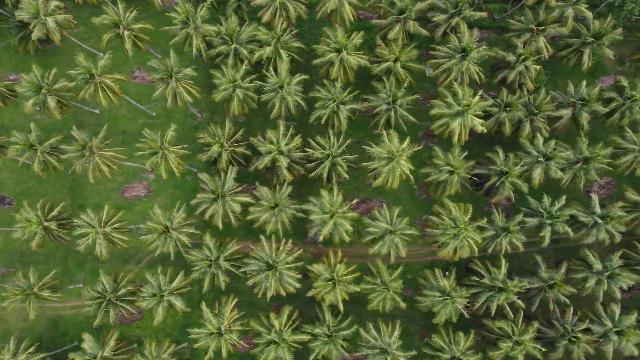trees: (544, 10, 624, 74), (424, 28, 495, 93), (241, 236, 310, 302), (466, 259, 536, 321), (187, 299, 258, 360), (183, 235, 252, 297), (61, 123, 132, 183), (423, 201, 492, 262), (562, 191, 637, 247), (425, 87, 491, 149), (572, 298, 640, 358), (191, 169, 255, 232), (80, 270, 147, 330), (137, 203, 205, 262), (547, 133, 616, 191), (302, 251, 365, 314), (6, 2, 78, 57), (505, 134, 572, 193), (360, 130, 424, 191), (92, 1, 157, 61), (70, 204, 139, 260), (570, 253, 640, 308), (312, 27, 374, 89), (362, 203, 425, 264), (9, 197, 80, 251), (67, 52, 133, 110), (359, 78, 425, 136), (13, 64, 81, 120), (413, 268, 478, 326), (1, 267, 69, 322), (481, 87, 549, 142), (303, 188, 366, 247), (421, 145, 486, 201), (162, 3, 222, 63), (146, 51, 205, 112), (298, 128, 359, 187), (296, 305, 361, 360), (246, 182, 306, 241), (135, 269, 196, 327), (5, 124, 73, 176), (367, 35, 429, 92), (247, 306, 312, 360), (546, 81, 610, 135), (475, 202, 536, 258), (256, 59, 311, 121), (136, 125, 195, 182), (250, 125, 309, 182), (196, 119, 255, 176), (488, 43, 551, 96), (204, 15, 261, 73), (209, 60, 264, 120), (516, 193, 577, 247), (309, 82, 368, 136), (358, 260, 412, 316), (480, 315, 546, 360), (250, 23, 306, 74), (357, 320, 418, 360), (254, 2, 313, 33)
